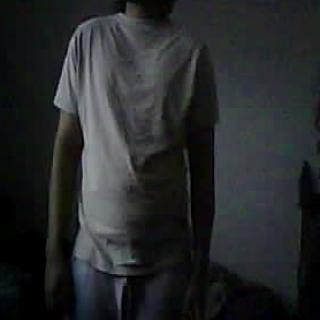White Sweatpants: (62, 260, 192, 320)
Yellow T-Shirt: (51, 21, 215, 269)
